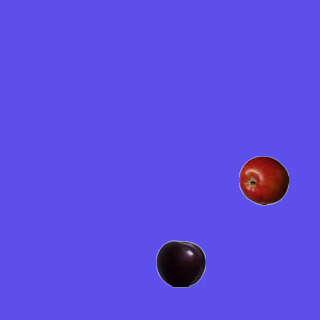Apple Braeburn: (238, 155, 288, 205)
Cherry Wax Black: (155, 238, 205, 288)
